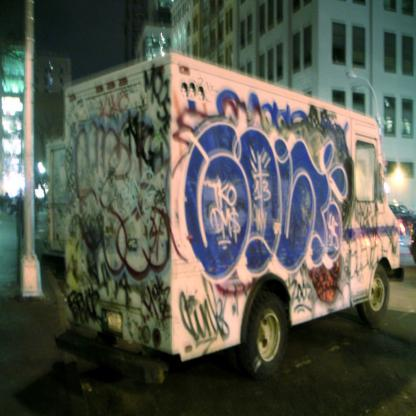Truck: (31, 46, 394, 389)
